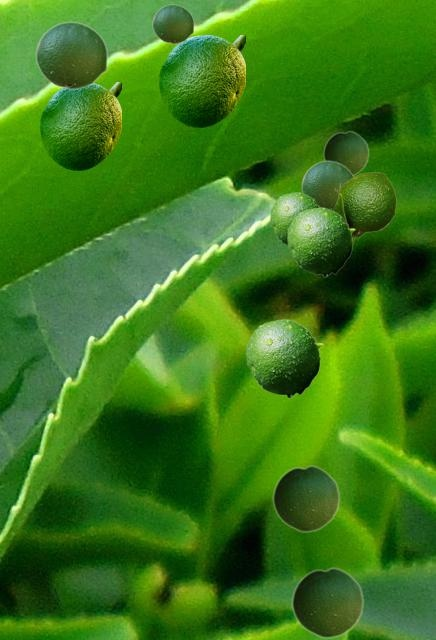dalandan: (159, 35, 244, 126), (40, 82, 120, 169), (246, 319, 322, 397), (291, 566, 363, 638), (35, 21, 107, 89), (287, 207, 354, 276), (272, 464, 339, 532), (332, 172, 395, 243), (270, 192, 320, 245), (301, 160, 353, 208), (323, 130, 368, 175), (152, 4, 193, 43)
